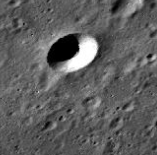crater: (29, 20, 126, 92)
